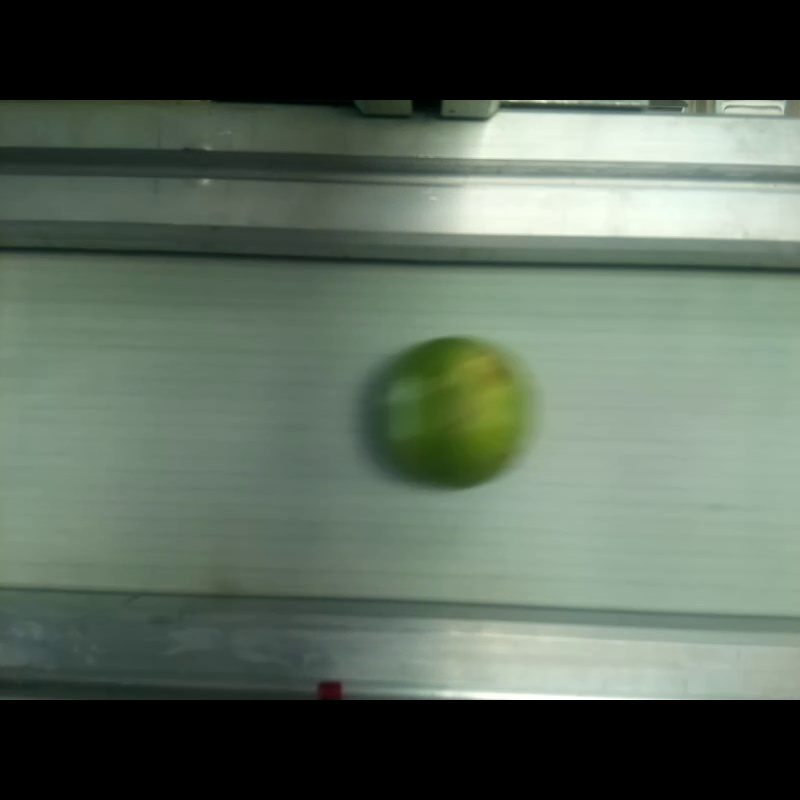lime: (377, 338, 523, 487)
